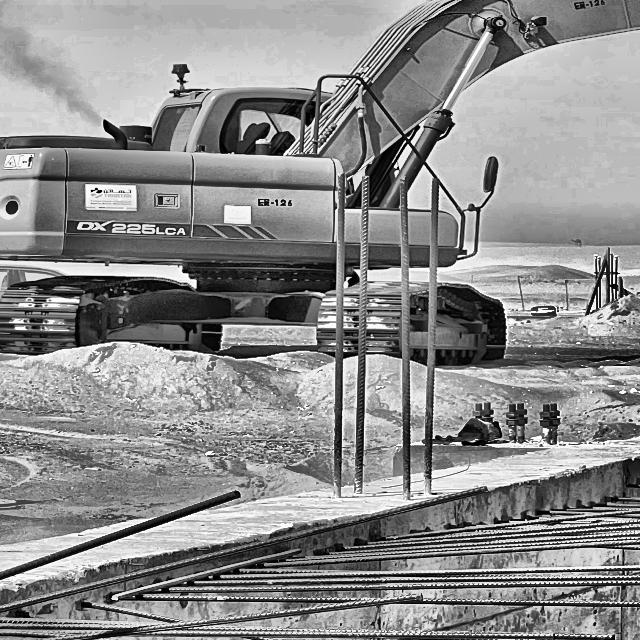excavator: (0, 0, 640, 364)
